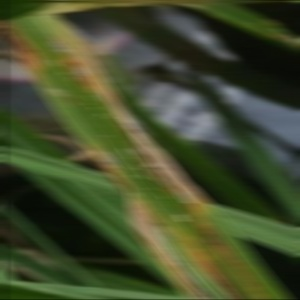Brown_Spot: (39, 31, 68, 58), (68, 59, 92, 91)
